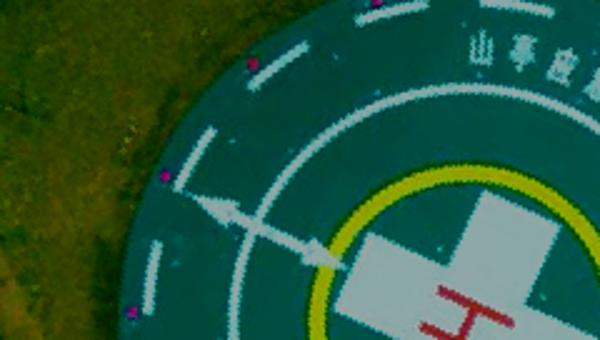Apron: (298, 159, 600, 340)
